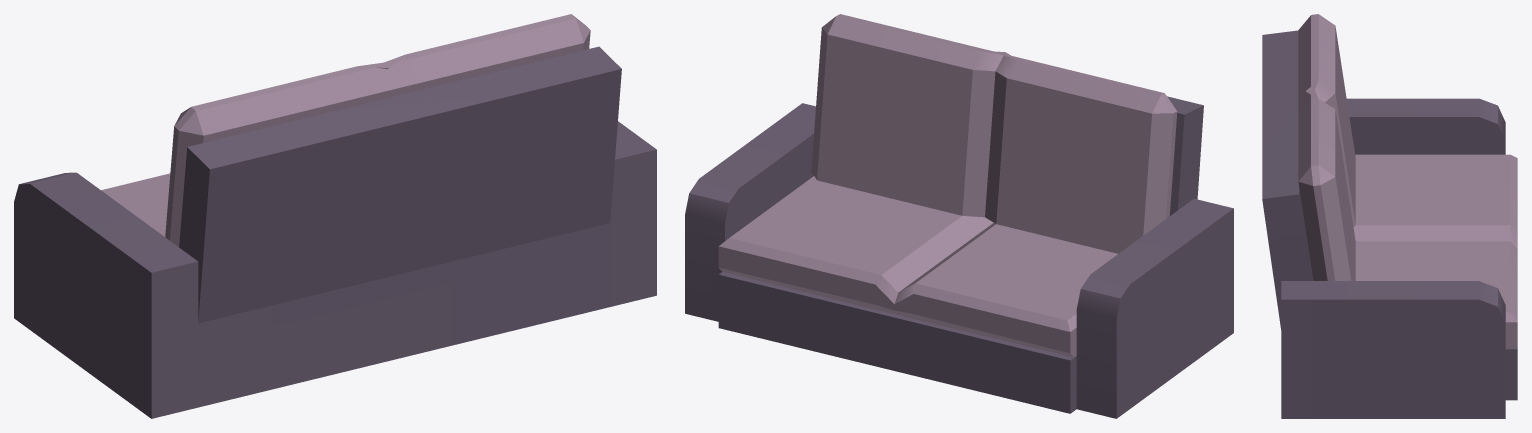
File: _ouch.fbx
3 renders of one model, left to right at view 1: azimuth 30°, elevation 25°; view 2: azimuth 150°, elevation 25°; view 3: azimuth 270°, elevation 25°, orthographic. The views are drawn at different scales.
Parts seen in each view (by area): view 1: Couch; view 2: Couch; view 3: Couch.
Boxes of the visible parts, <box> form: Couch: <box>14,14,656,418</box>; Couch: <box>685,14,1233,418</box>; Couch: <box>1262,14,1517,418</box>.
Bounding box in the file's own units: 0.0429 × 0.0227 × 0.023.
